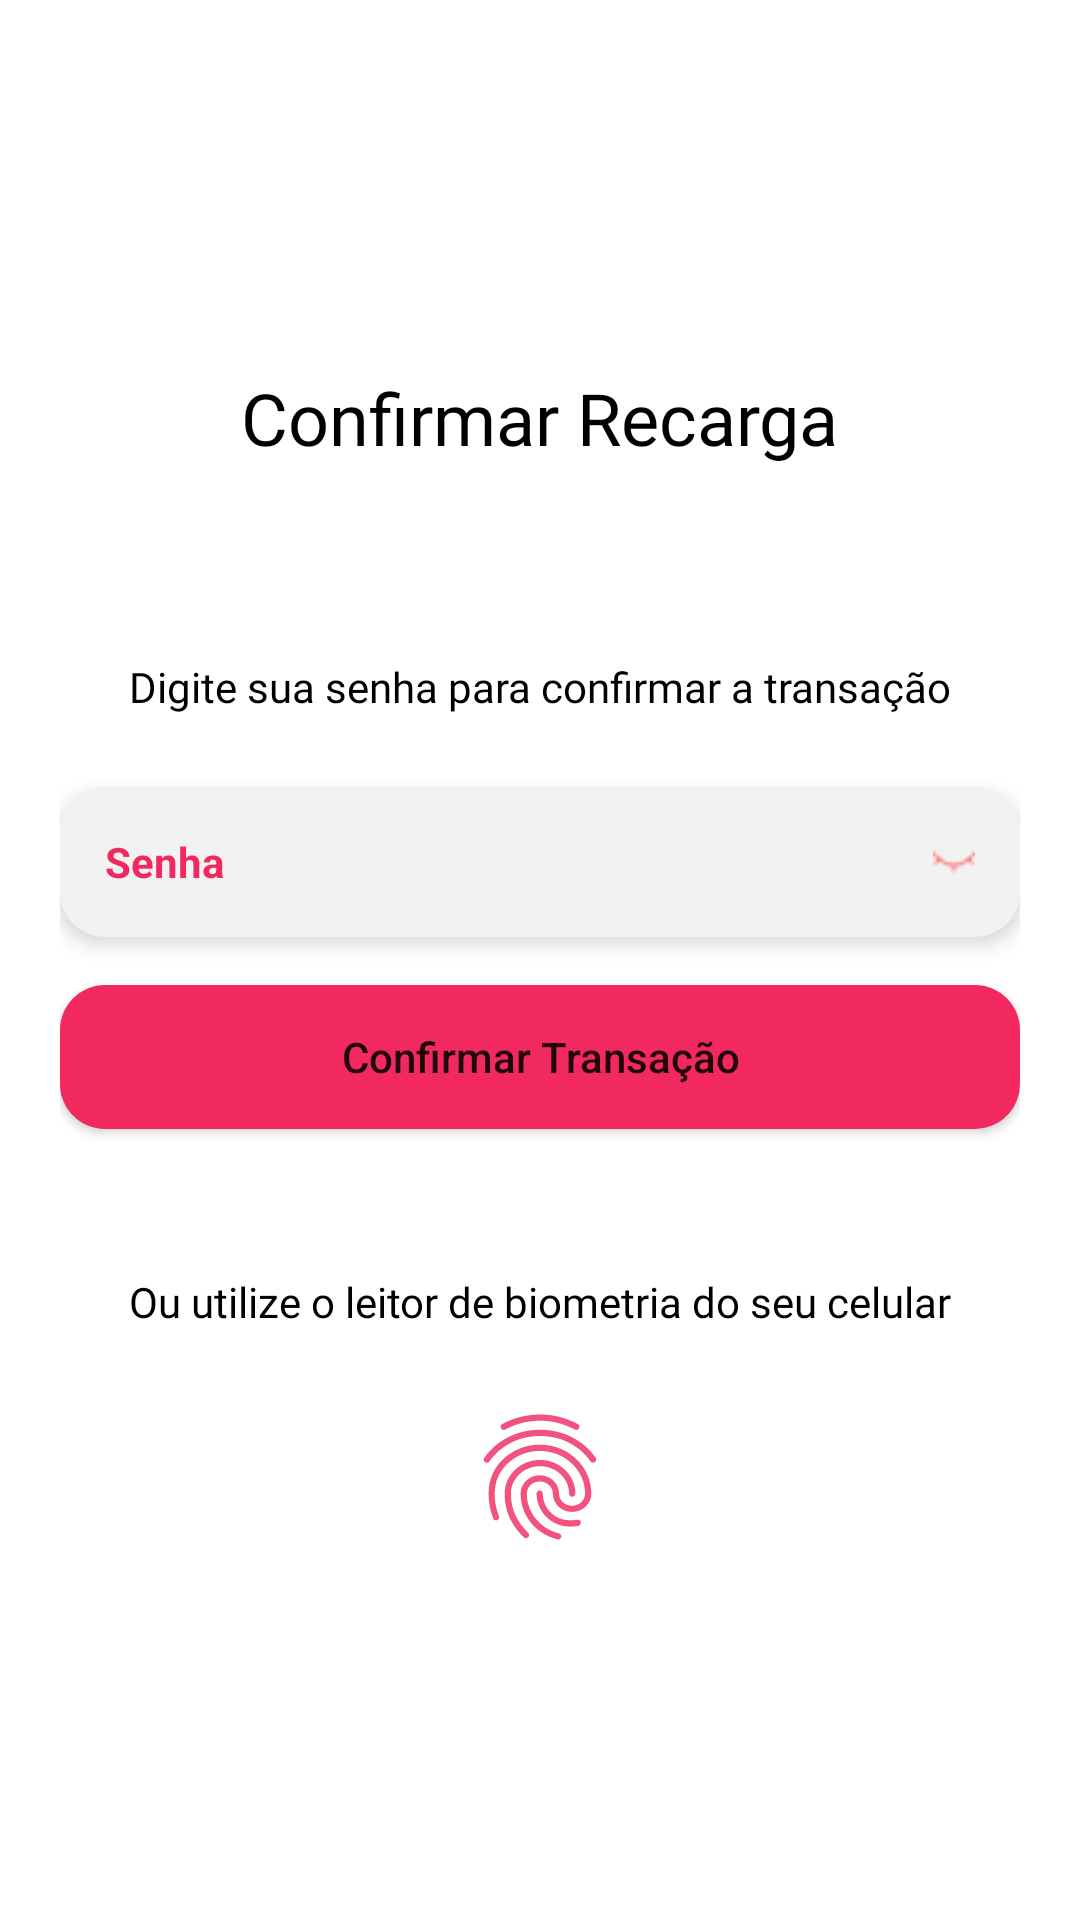

Named icons in this screenshot (1080 x 1920) and their centers, [x,y]:
fingerprint: [540,1477]
